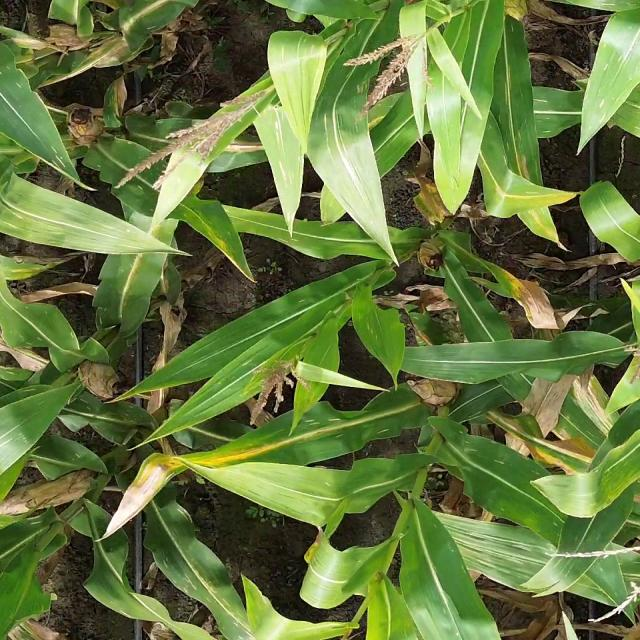gray-leaf-spot: (158, 551, 250, 634), (491, 71, 544, 174), (306, 102, 375, 175), (451, 430, 546, 479), (542, 516, 615, 578), (452, 528, 536, 575), (74, 391, 151, 442), (264, 113, 308, 191), (298, 410, 396, 445), (595, 32, 640, 108), (3, 306, 73, 350), (532, 93, 574, 143), (32, 134, 70, 171), (106, 85, 130, 128)
northern-leaf-blight: (567, 378, 624, 438), (116, 0, 178, 42)
